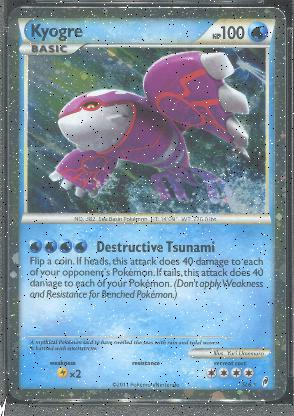Card: (4, 3, 288, 402)
